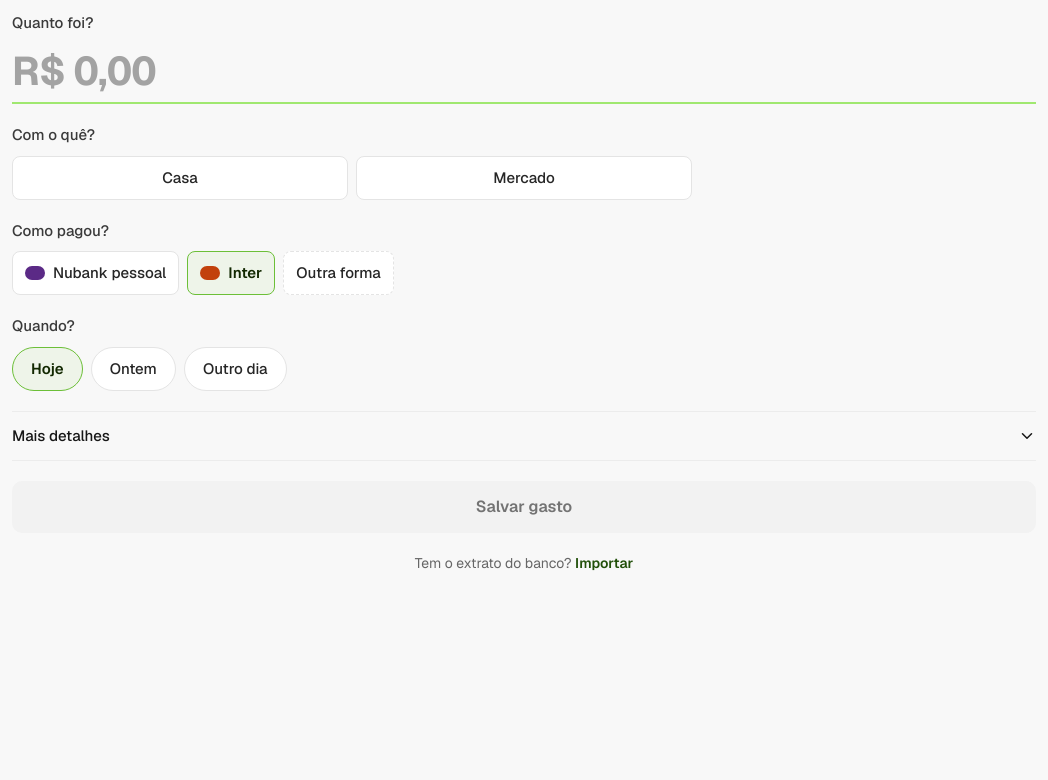
Test case: Como pagou? (K6 A) › um toque por cartão, o último usado já marcado, e "Outra forma" que desmarca
The width and height of the screenshot is (1048, 780).
Expected: the radio button labelled "Inter" is checked, [187,251,275,295]
What coordinates should you click on to do the following:
click the radio button labelled "Outra forma"
I would click on:
 (338, 273)
Its box is [283,251,394,295].
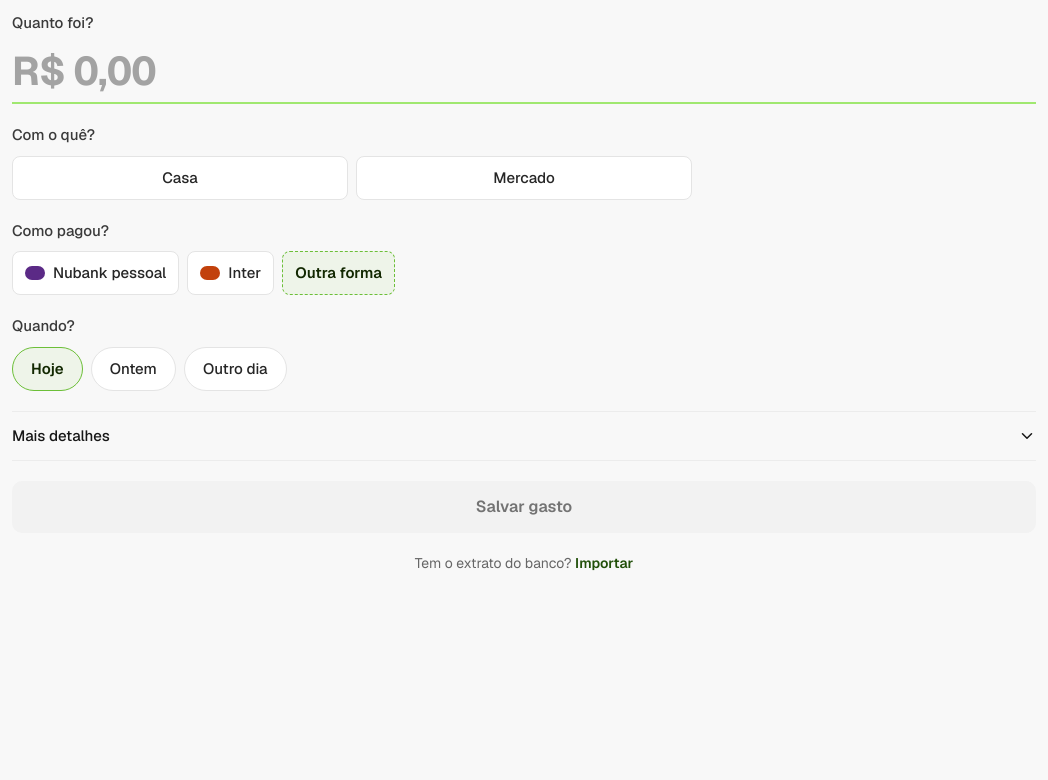
Result: the radio button labelled "Inter" is not checked at [187,251,274,295]
